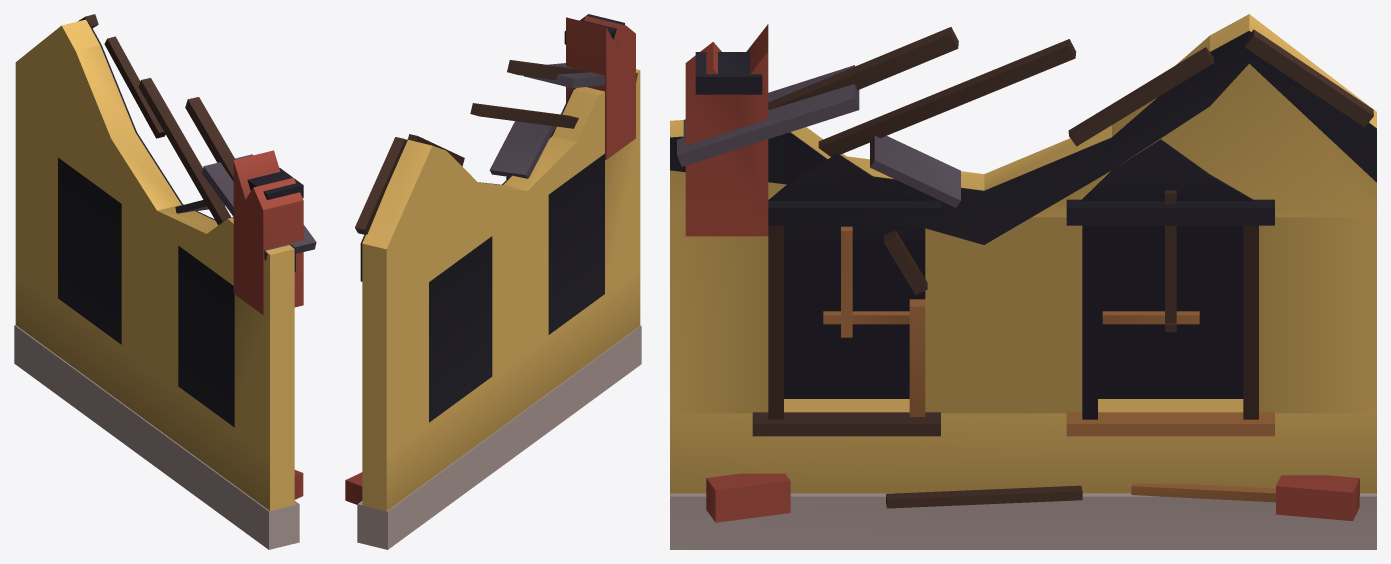
The model's file is decay.burned-facade.house.lod1.glb.
The picture shows the model from 3 angles, left to right: view 1: azimuth 30°, elevation 25°; view 2: azimuth 150°, elevation 25°; view 3: azimuth 270°, elevation 25°; orthographic projection. The views are drawn at different scales.
Parts seen in each view (by area): view 1: body, roof; view 2: body, roof; view 3: body, roof.
Part boxes in pixels (left/top/right/bottom): body: left=14, top=19, right=303, bottom=549; roof: left=78, top=14, right=316, bottom=260; body: left=345, top=14, right=641, bottom=549; roof: left=355, top=60, right=637, bottom=234; body: left=670, top=14, right=1376, bottom=549; roof: left=677, top=27, right=1373, bottom=207.
Size of the model in its own units: 0.4179 by 2.91 by 3.6.
